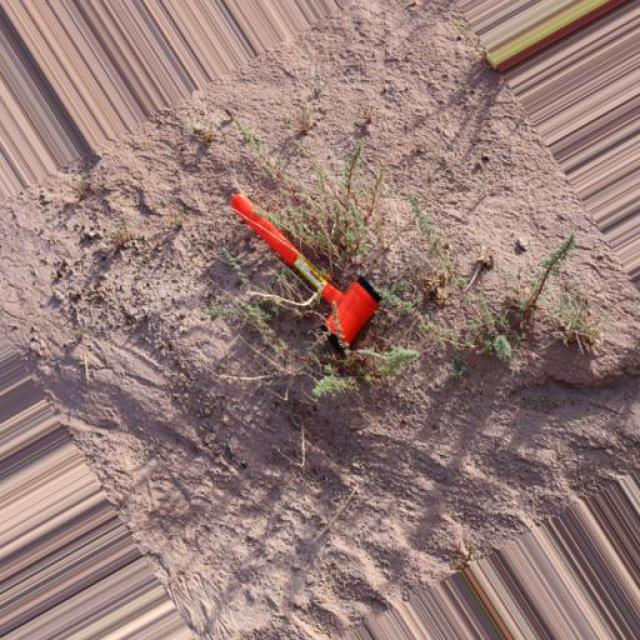mallet: (228, 190, 382, 350)
